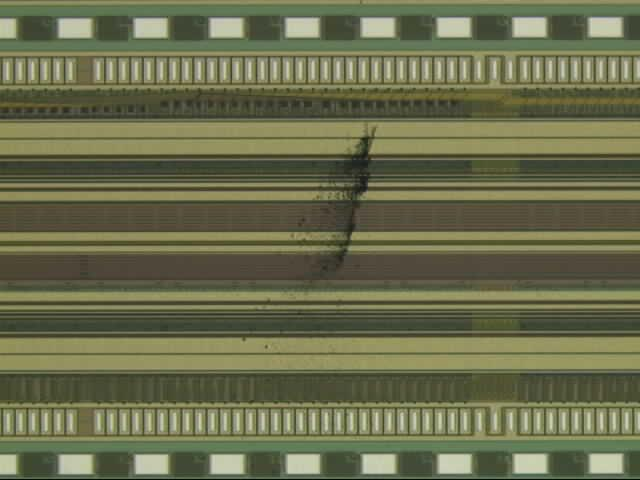PO CONTAMINATION: (239, 120, 382, 362)
